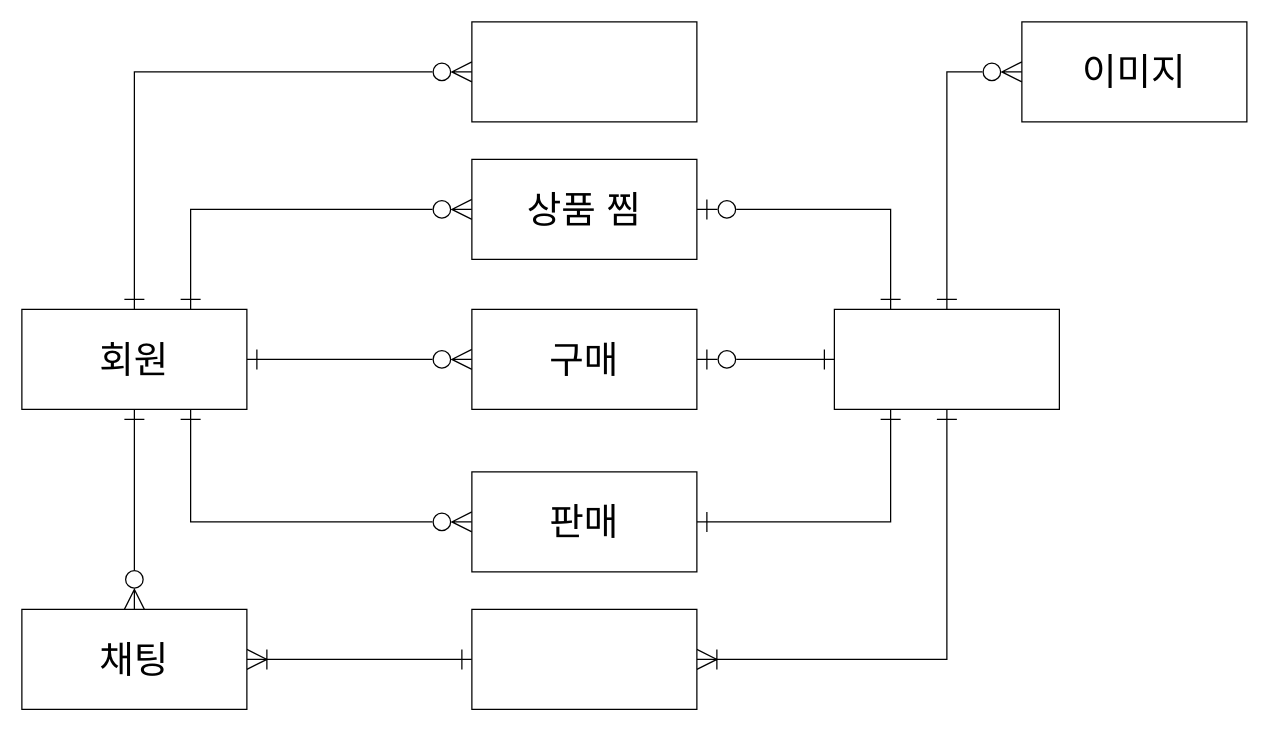
The diagram is 1269 pixels wide and 731 high, and some of its shapes have lost their labels. The centre of each missing label's shape, as x and y in pixels:
"도서 찜" belongs at point (584, 71).
"상품" belongs at point (946, 358).
"채팅방" belongs at point (584, 658).
